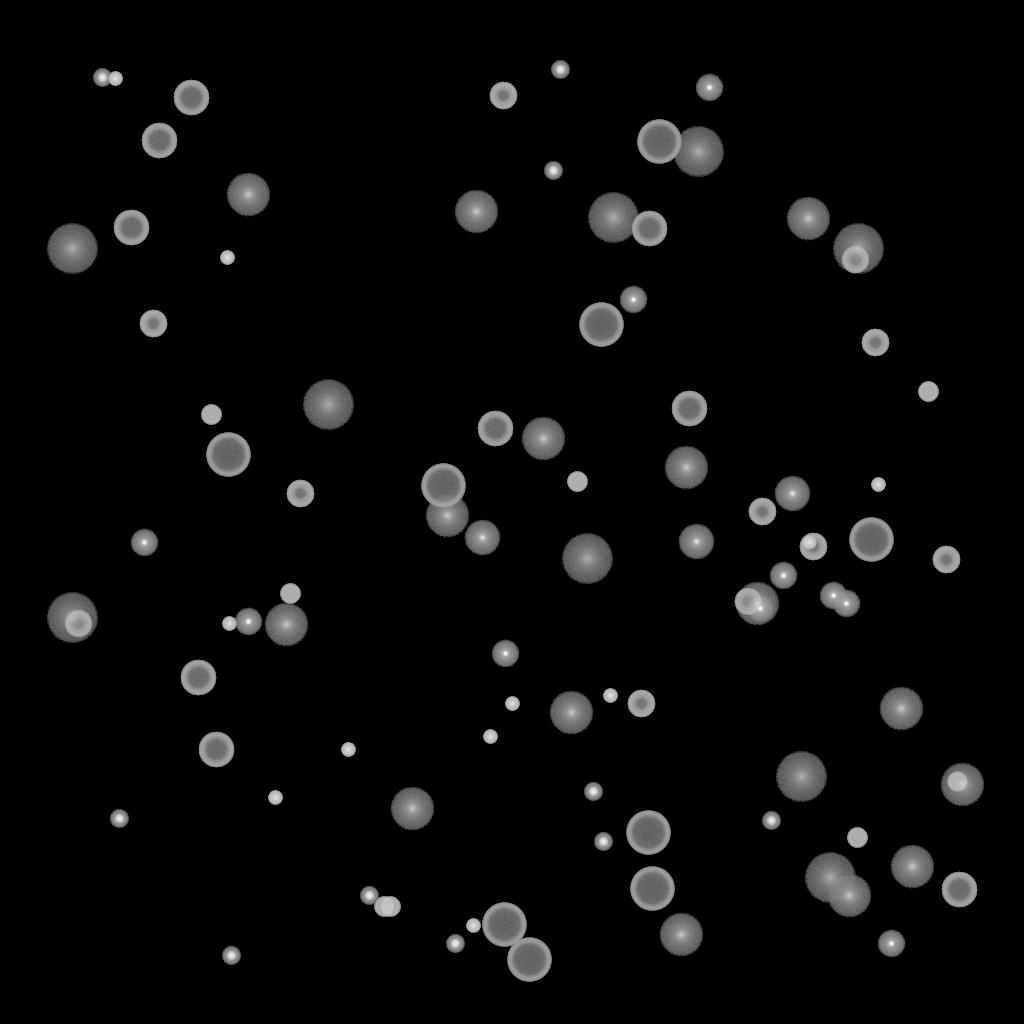depth:-10: (619, 286, 647, 314), (819, 582, 847, 610), (491, 640, 519, 668), (746, 595, 774, 623), (877, 930, 905, 958), (832, 590, 860, 618), (234, 608, 262, 636), (130, 529, 158, 557), (769, 562, 797, 590), (695, 74, 723, 102)
depth:-20: (544, 162, 562, 180), (222, 947, 240, 965), (594, 833, 612, 851), (551, 61, 569, 79), (93, 69, 111, 87), (446, 935, 464, 953), (762, 812, 780, 830), (584, 783, 602, 801), (110, 810, 128, 828), (360, 887, 378, 905)
depth:-30: (871, 478, 885, 492), (108, 72, 122, 86), (466, 919, 480, 933), (802, 536, 816, 550), (483, 730, 497, 744), (341, 743, 355, 757), (603, 689, 617, 703), (220, 251, 234, 265), (268, 791, 282, 805), (505, 697, 519, 711), (222, 617, 236, 631)
depth:-40: (380, 897, 400, 917), (374, 897, 394, 917), (201, 405, 221, 425), (847, 828, 867, 848), (918, 382, 938, 402), (280, 584, 300, 604), (947, 772, 967, 792), (567, 472, 587, 492)
depth:-50: (627, 690, 655, 718), (64, 610, 92, 638), (734, 588, 762, 616), (489, 82, 517, 110), (286, 480, 314, 508), (748, 498, 776, 526), (799, 533, 827, 561), (139, 310, 167, 338), (932, 546, 960, 574), (861, 329, 889, 357), (841, 246, 869, 274)
depth:-60: (113, 210, 149, 246), (671, 391, 707, 427), (198, 732, 234, 768), (941, 872, 977, 908), (173, 80, 209, 116), (180, 660, 216, 696), (477, 411, 513, 447), (631, 211, 667, 247), (141, 123, 177, 159)
depth:-70: (482, 903, 526, 947), (507, 938, 551, 982), (206, 433, 250, 477), (849, 518, 893, 562), (626, 811, 670, 855), (637, 120, 681, 164), (630, 867, 674, 911), (421, 464, 465, 508), (579, 303, 623, 347)
depth:0: (464, 520, 500, 556), (678, 524, 714, 560), (774, 476, 810, 512)
depth:10: (454, 190, 498, 234), (549, 691, 593, 735), (890, 845, 934, 889), (390, 787, 434, 831), (264, 603, 308, 647), (664, 446, 708, 490), (425, 494, 469, 538), (521, 417, 565, 461), (879, 687, 923, 731), (940, 763, 984, 807), (659, 913, 703, 957), (226, 173, 270, 217), (786, 197, 830, 241), (735, 582, 779, 626), (827, 874, 871, 918)
depth:20: (46, 224, 98, 274), (587, 193, 639, 243), (561, 534, 613, 584), (302, 380, 354, 430), (775, 752, 827, 802), (832, 224, 884, 274), (672, 127, 724, 177), (46, 593, 98, 643), (804, 853, 856, 903)
